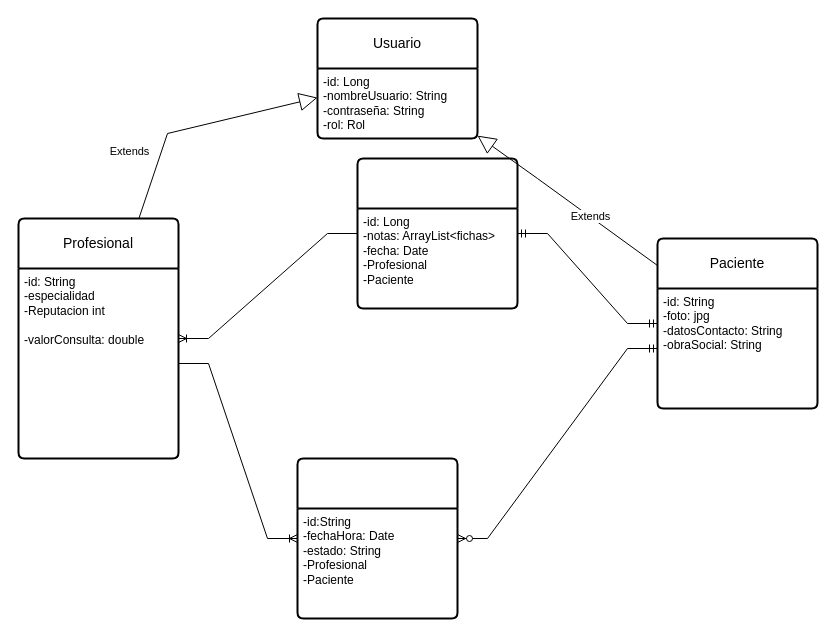
This 835x636 diagram has some shape labels left out. The box of each missing label's shape, as (x1, y1, x2, y2) in pixels:
HistoriaClinica: (356, 157, 518, 309)
Turno: (296, 457, 458, 619)
